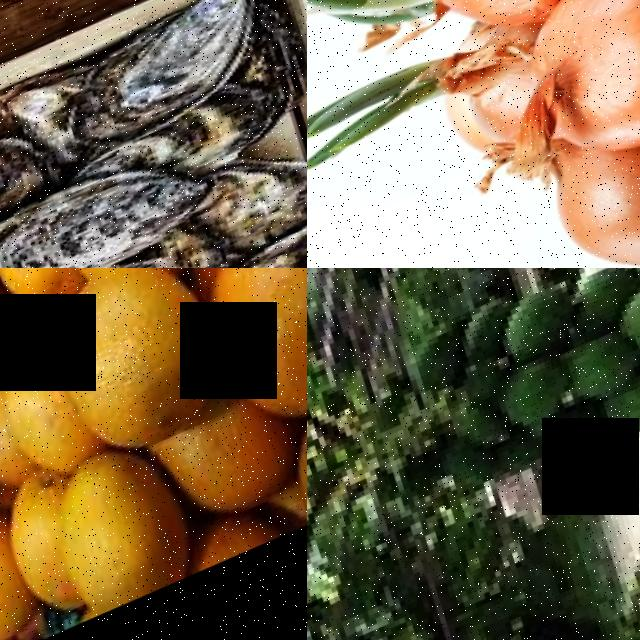onion: (507, 0, 640, 189), (539, 101, 640, 268)
orange: (36, 268, 239, 479), (40, 438, 206, 633), (189, 268, 307, 449), (0, 326, 104, 497), (0, 476, 95, 639), (0, 516, 49, 640), (0, 268, 89, 328)
oysters: (46, 0, 280, 172), (0, 144, 214, 268), (170, 144, 307, 268)
